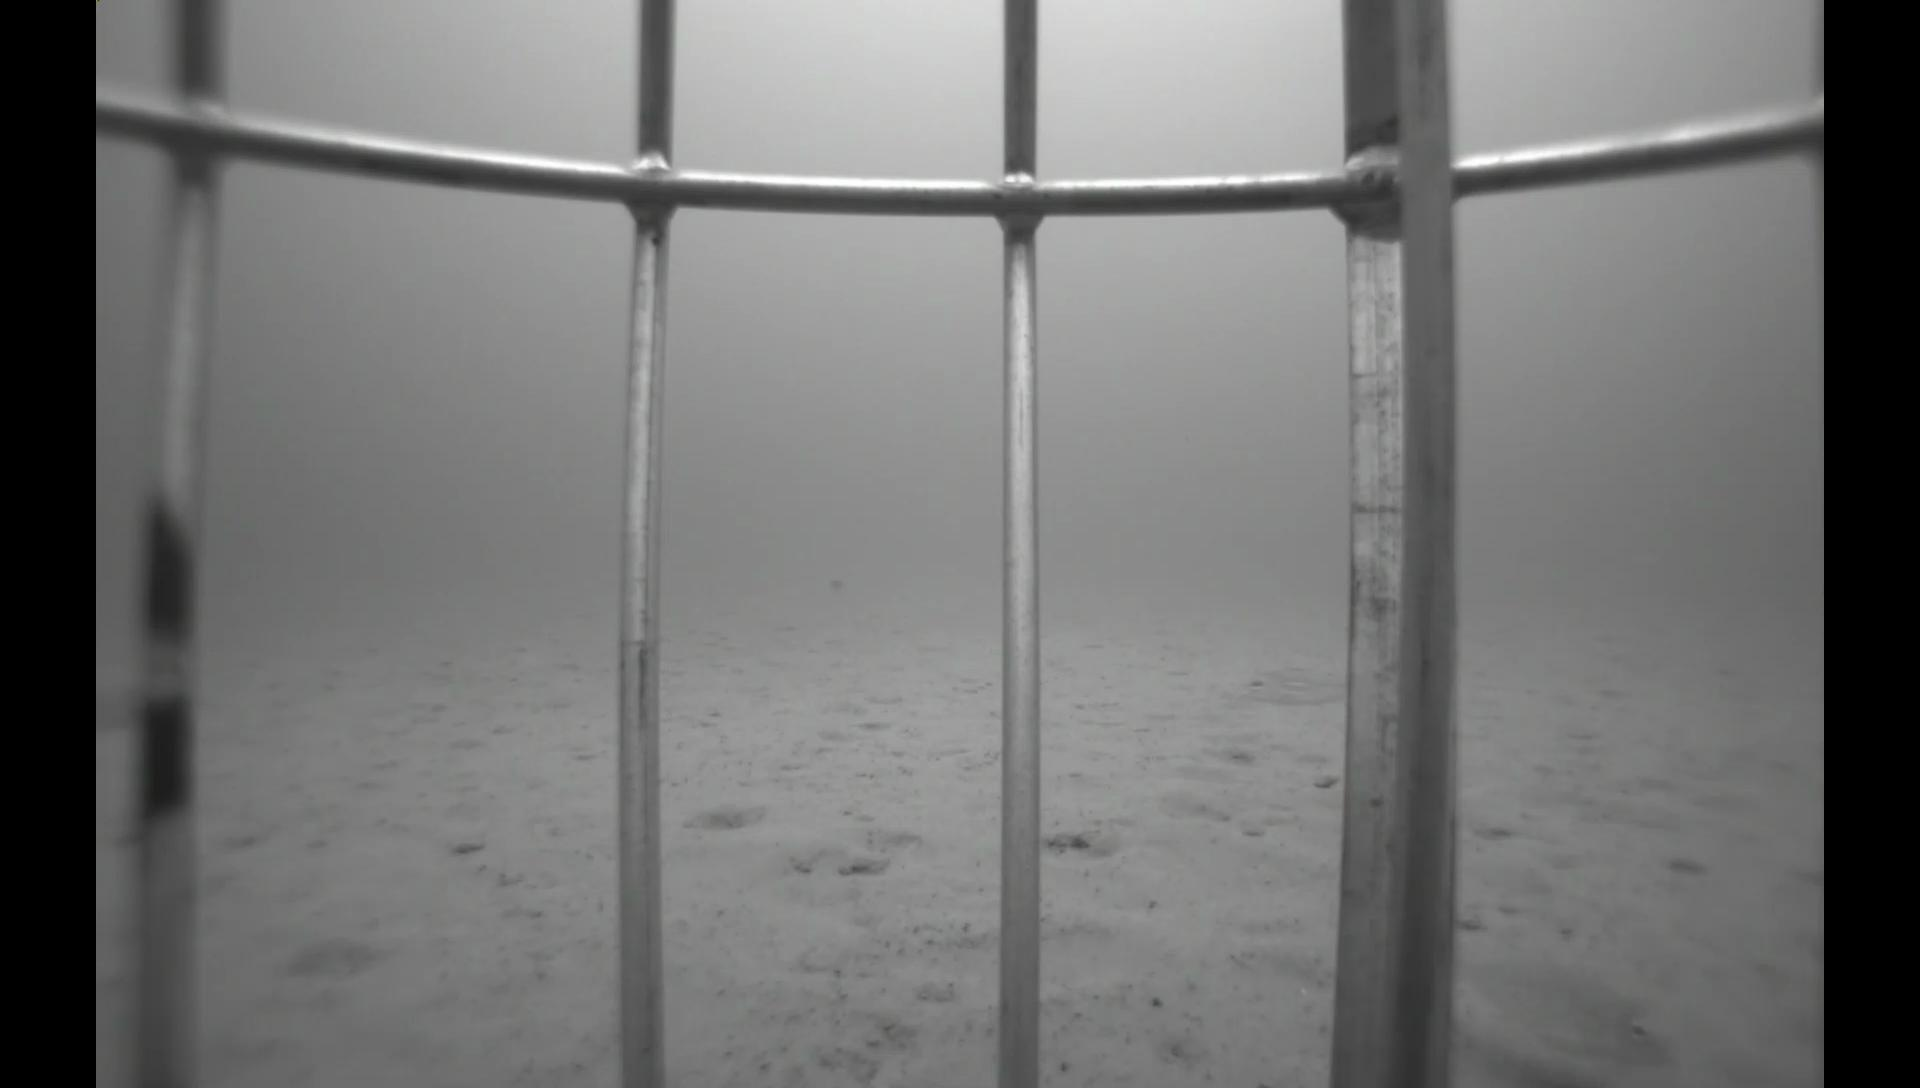CAULOLATILUSCYANOPS-170070101: (1225, 661, 1345, 713)
PRISTIPOMOIDES-170151800: (1456, 938, 1692, 1077)
